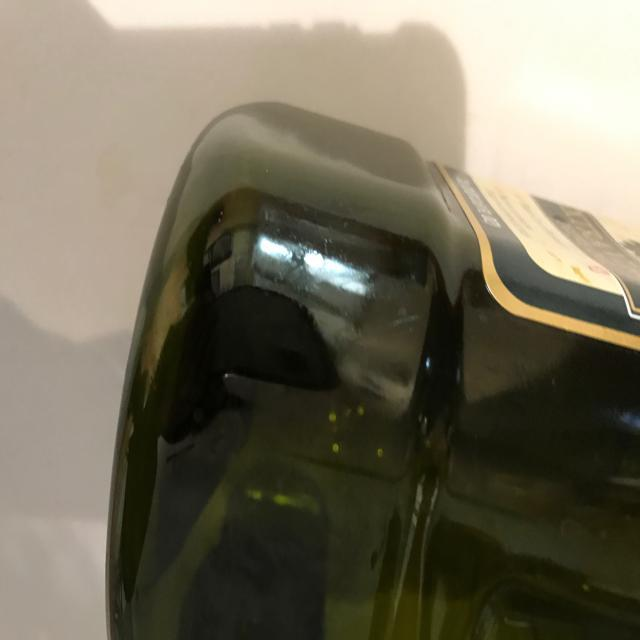plastic: (99, 100, 640, 640)
